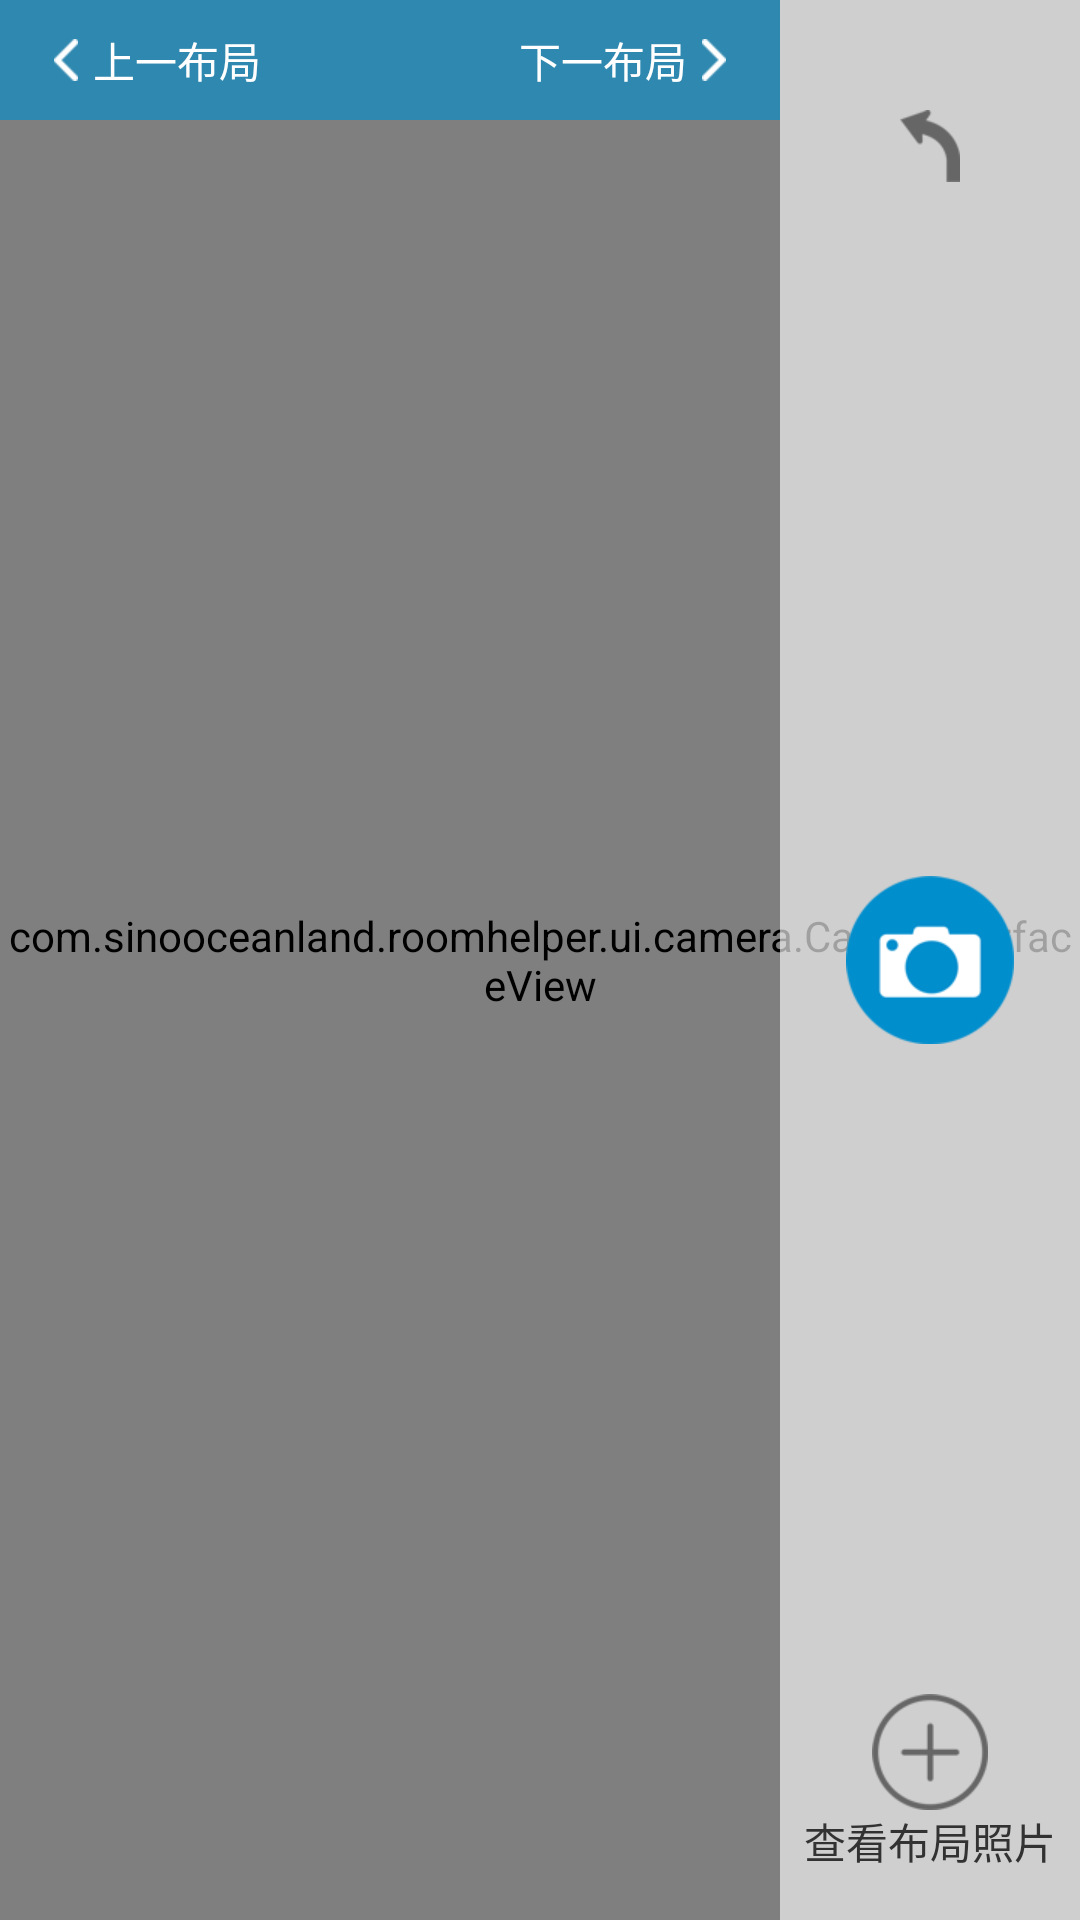

Where to tap for icons on this 1080px x 1920px app screen, as [x,y]:
back: [930,146]
